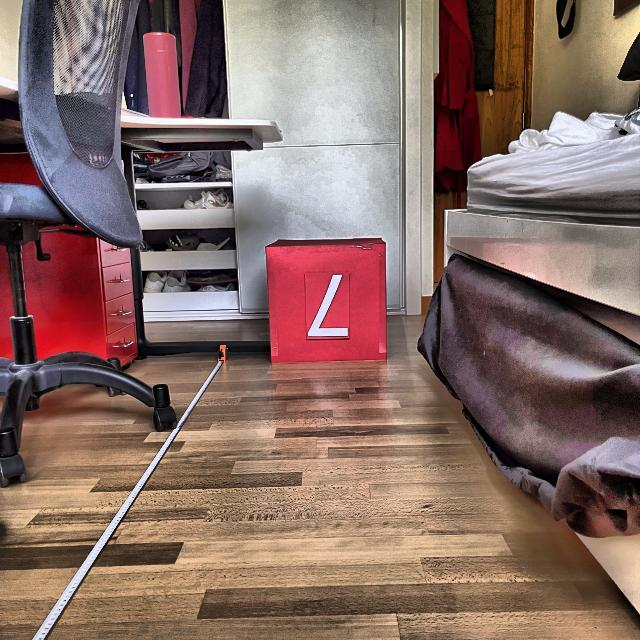red box: (264, 238, 388, 363)
seven: (306, 274, 349, 336)
